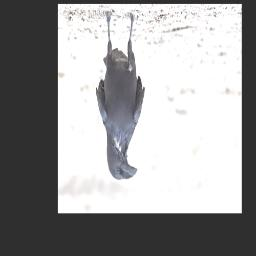Crow: (95, 9, 146, 181)
